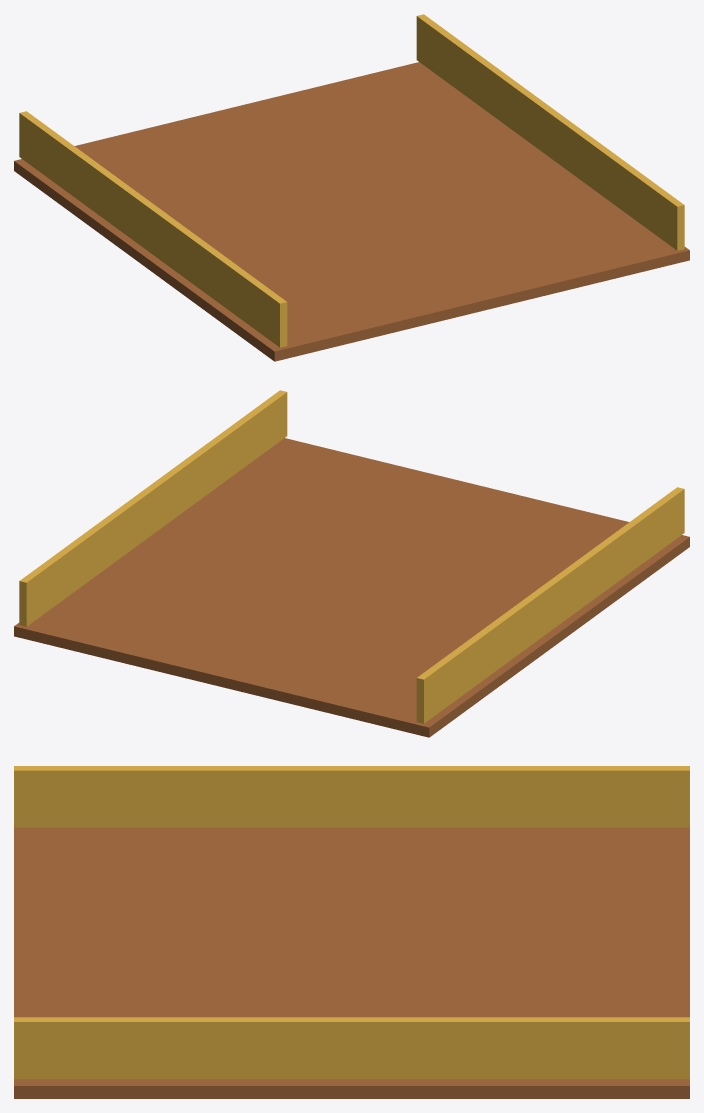
File: prop_jembatan.fbx
3 views of the same model, one above another, from view 1: azimuth 30°, elevation 25°; view 2: azimuth 150°, elevation 25°; view 3: azimuth 270°, elevation 25° (orthographic). The views are drawn at different scales.
Visible parts, largest first — view 1: prop_jembatan; view 2: prop_jembatan; view 3: prop_jembatan.
Part boxes in pixels (left/top/right/bottom): prop_jembatan: left=14, top=14, right=689, bottom=361; prop_jembatan: left=14, top=390, right=689, bottom=737; prop_jembatan: left=14, top=766, right=689, bottom=1098.
Size of the model in its own units: 690 by 90 by 750.
1 material, 1 textured.
